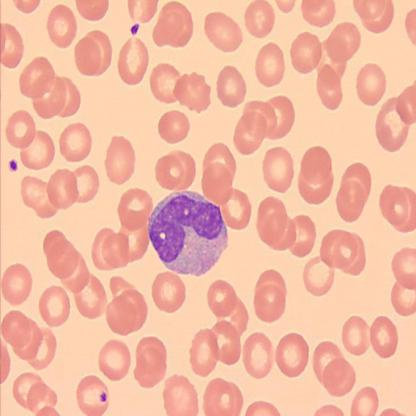Monocyte: (147, 187, 230, 278)
